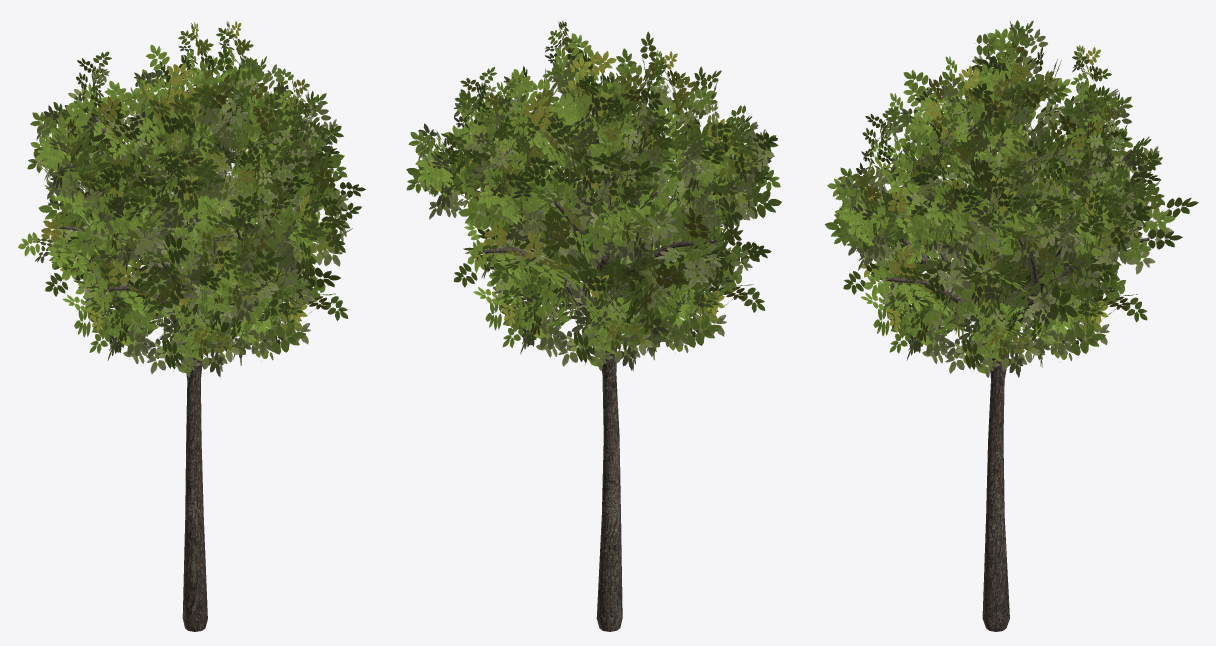
Rendered from lowpoly-tree.glb.
3 views of the same model, side by side, from view 1: azimuth 30°, elevation 25°; view 2: azimuth 150°, elevation 25°; view 3: azimuth 270°, elevation 25° (orthographic). The views are drawn at different scales.
Parts seen in each view (by area): view 1: Leaves; view 2: Leaves; view 3: Leaves.
Part boxes in pixels (bbox=[...]): Leaves: bbox=[18, 21, 365, 631]; Leaves: bbox=[406, 20, 781, 631]; Leaves: bbox=[825, 20, 1198, 631].
Bounding box in the file's own units: 5.06 × 8.5 × 5.17.
2 materials, 2 textured.
